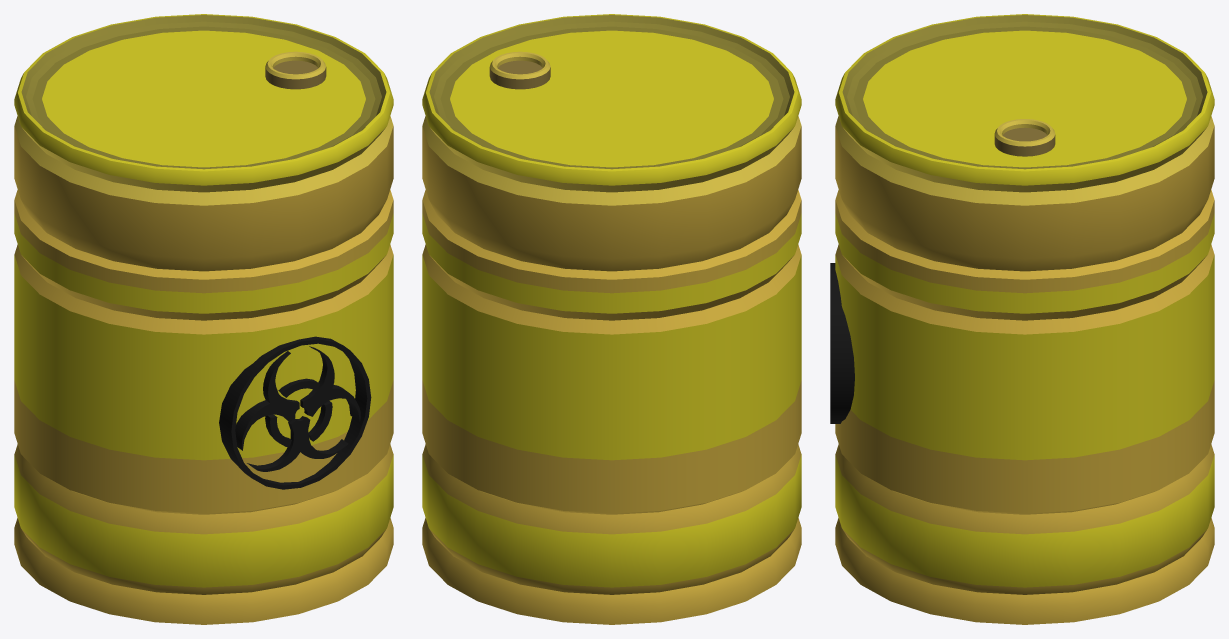
The model's file is Barrel.fbx.
3 renders of one model, left to right at view 1: azimuth 30°, elevation 25°; view 2: azimuth 150°, elevation 25°; view 3: azimuth 270°, elevation 25°, orthographic.
Parts seen in each view (by area): view 1: Cylinder.029; view 2: Cylinder.029; view 3: Cylinder.029.
Part boxes in pixels (x1,y1,x2,y2): Cylinder.029: [14, 14, 393, 624]; Cylinder.029: [422, 14, 801, 624]; Cylinder.029: [830, 14, 1214, 624].
Size of the model in its own units: 95.12 by 127 by 96.37.
